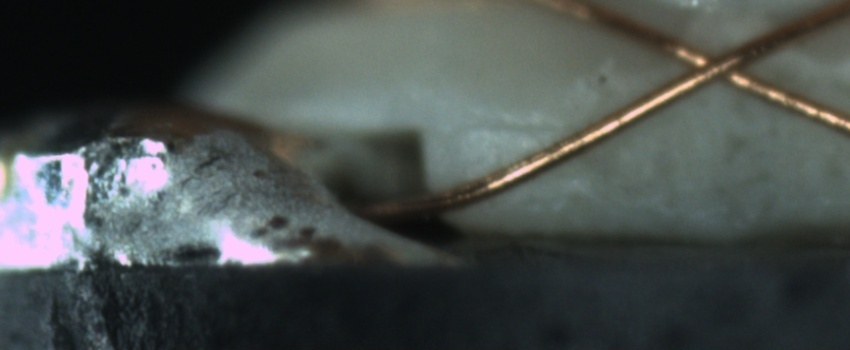CL: (652, 27, 782, 99)
DL: (463, 96, 562, 156)
